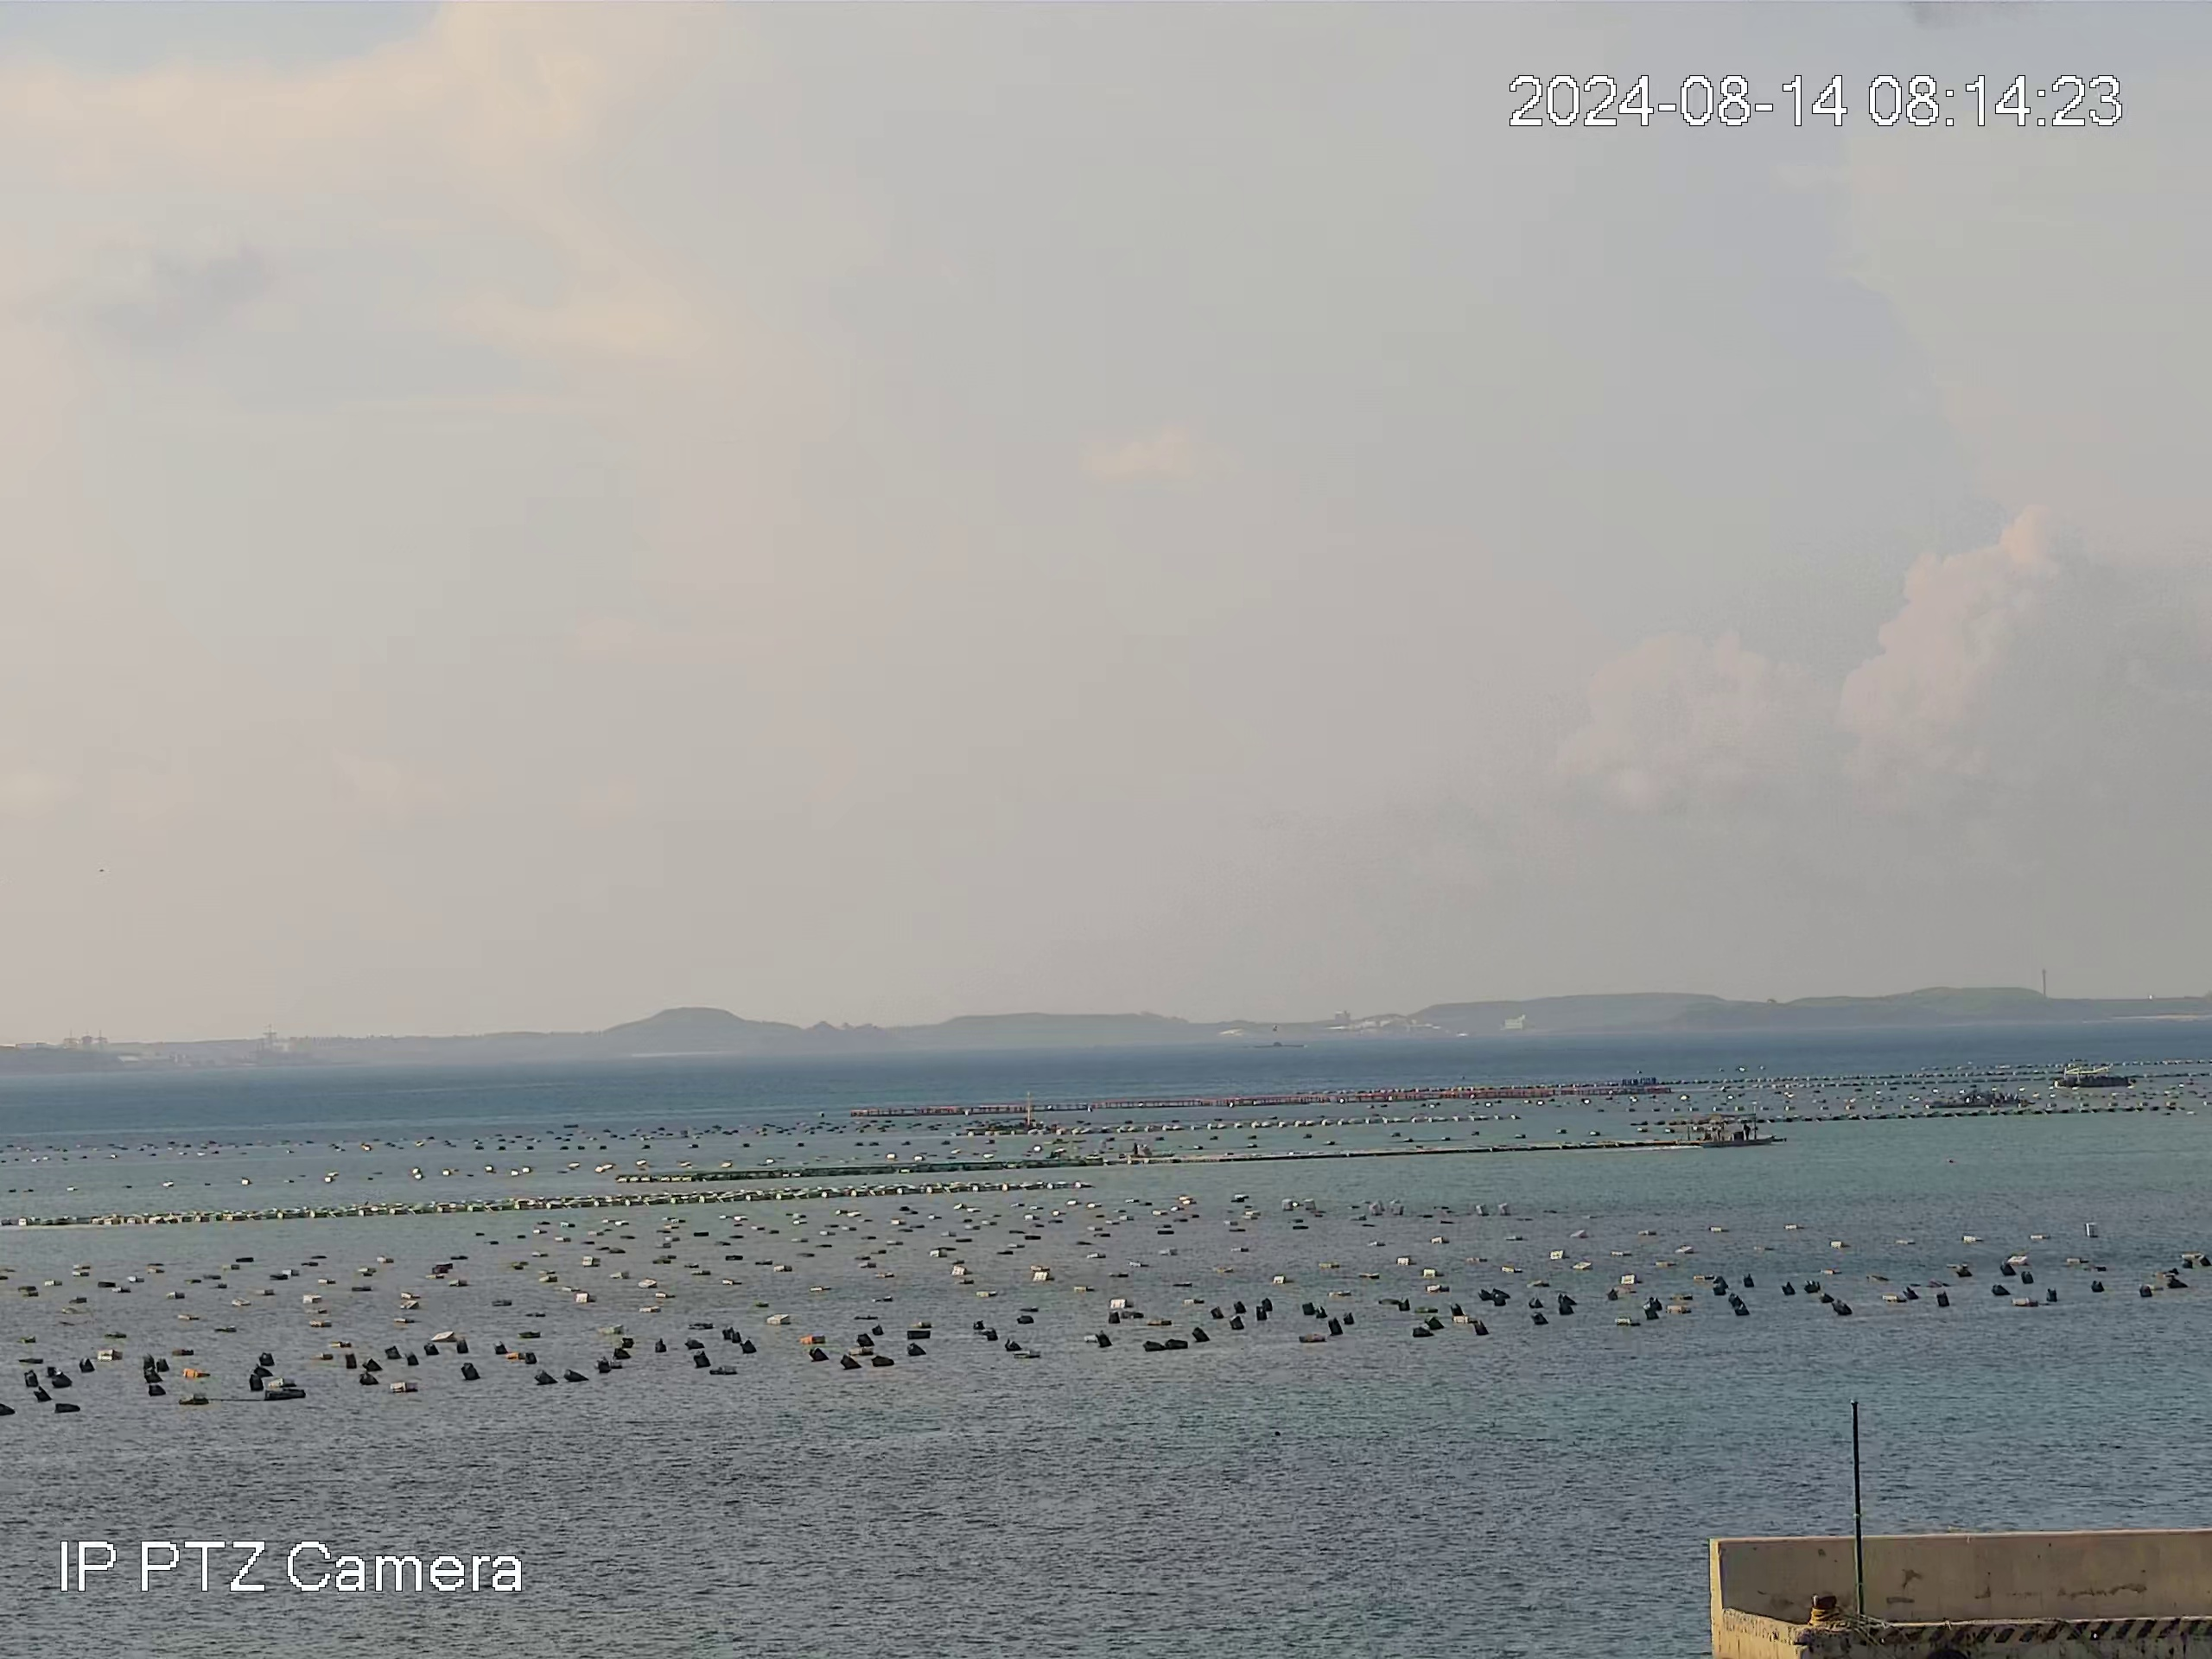boat: (1676, 1110, 1782, 1145), (1925, 1080, 2027, 1108), (2055, 1061, 2135, 1089)
